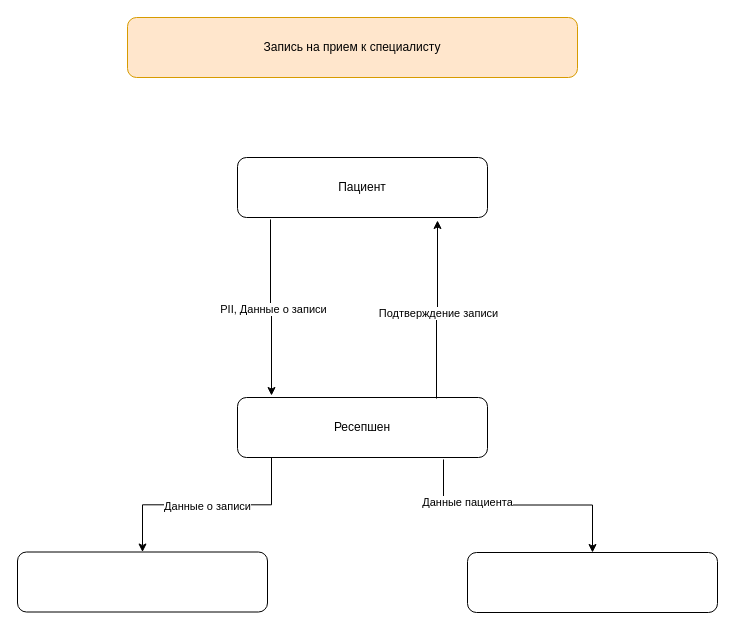
The diagram is 735 pixels wide and 630 high, and some of its shapes have lost their labels. Here are the shapes that lost their labels. From the top down, the box of each, then its label:
(16, 551, 268, 612): Журнал записей (Excel/бумага)
(466, 552, 718, 612): Специалист
